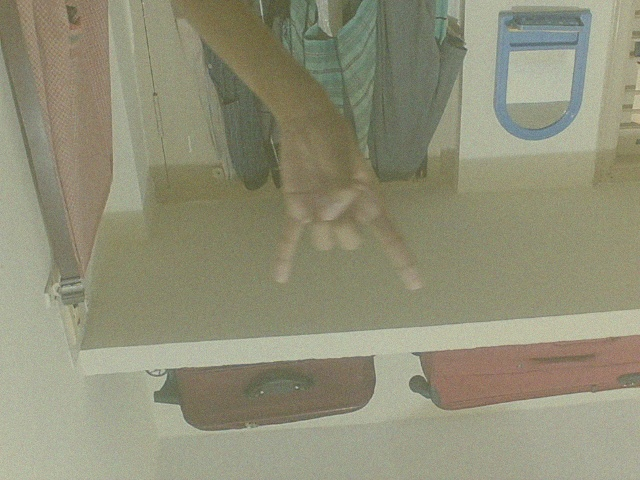hand: (258, 98, 427, 304)
